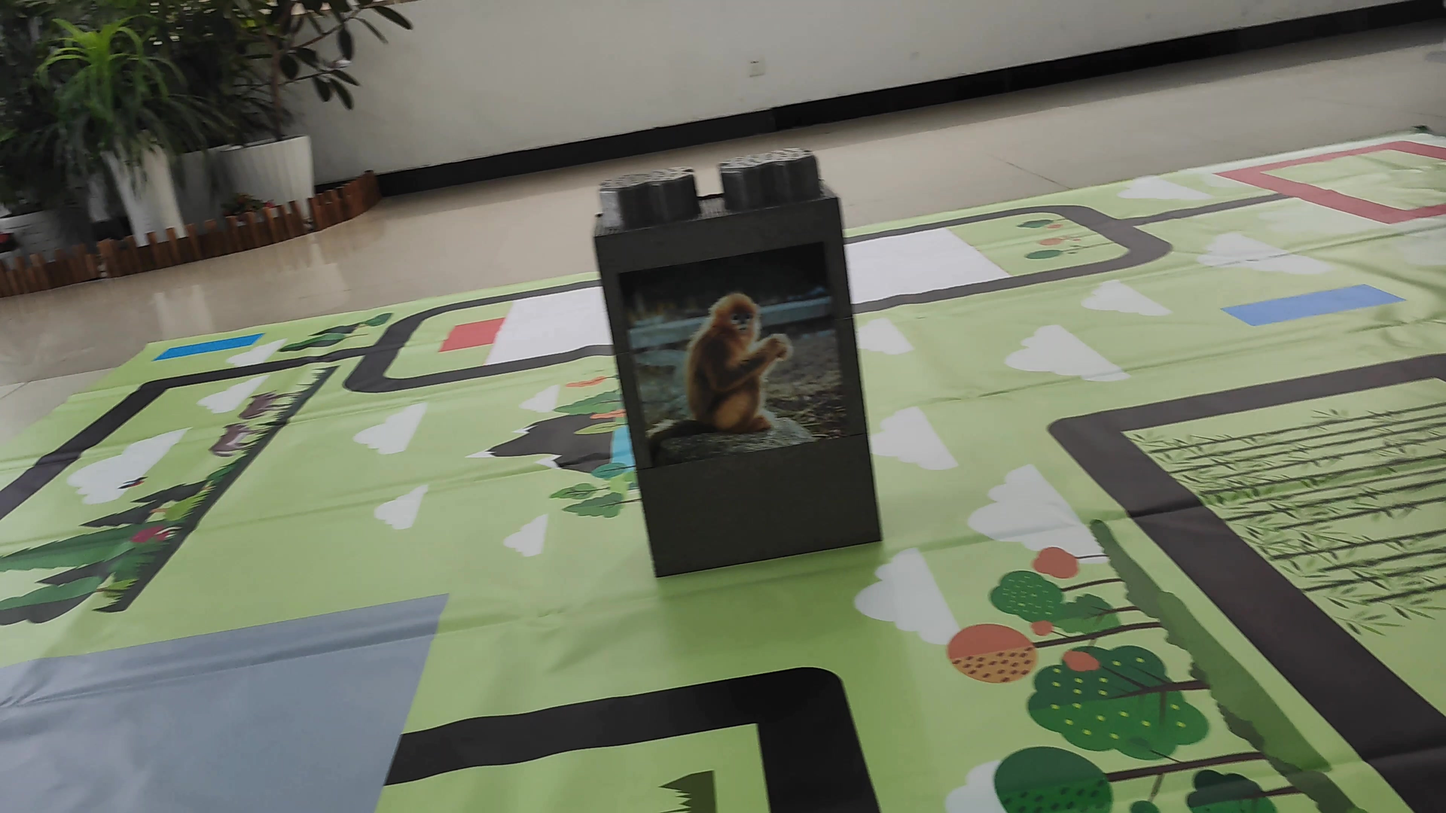monkey: (633, 273, 840, 468)
